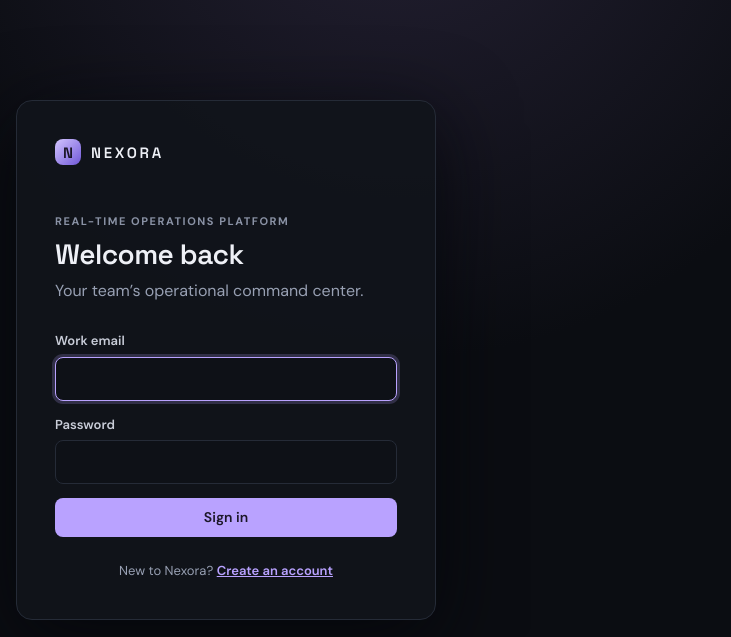
Test: LoginPage › signs in with normalized email and lands in the app
The image size is (731, 637).
Type "  Alex@Example.TEST " into the field labelled "Work email" at [226, 379], box [55, 357, 397, 401]
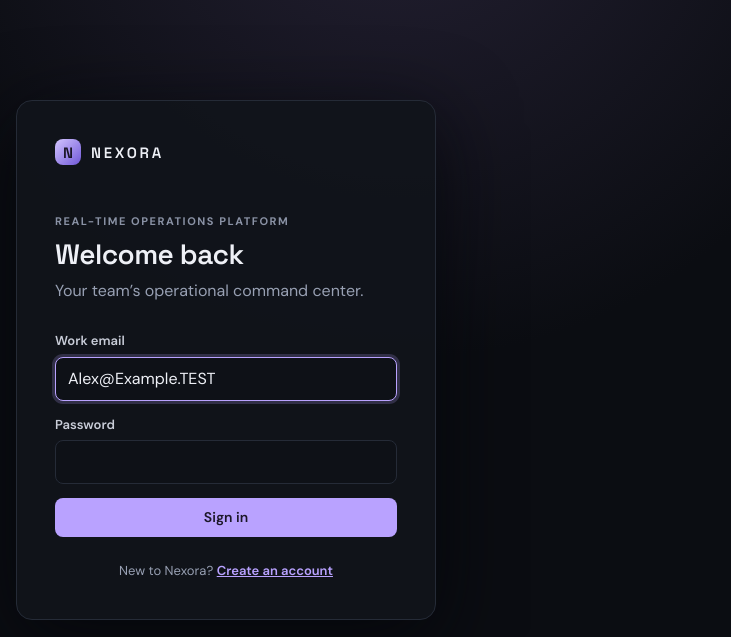
Type "correct-password" into the password field labelled "Password" at [226, 462], box [55, 440, 397, 484]
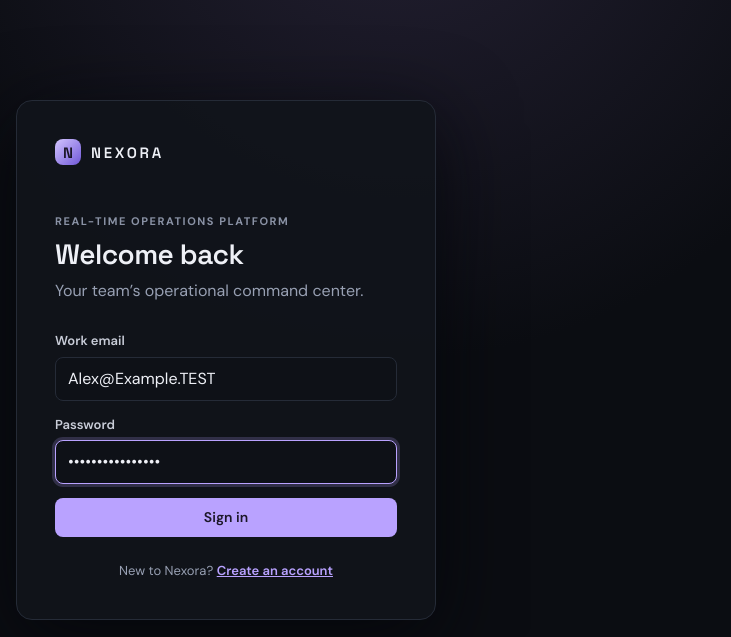
Click the button "Sign in" at [226, 518], box [55, 498, 397, 537]
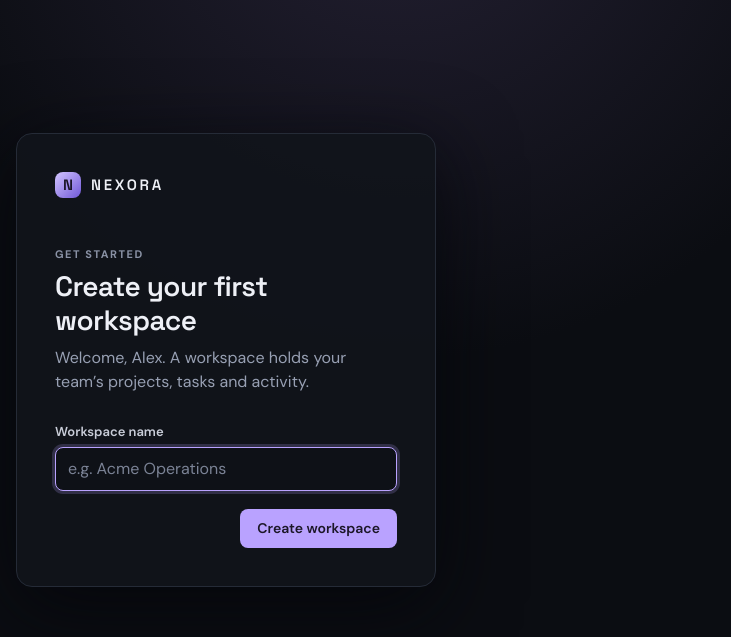
Check: the heading "Create your first workspace" is shown, box [55, 268, 267, 338]
